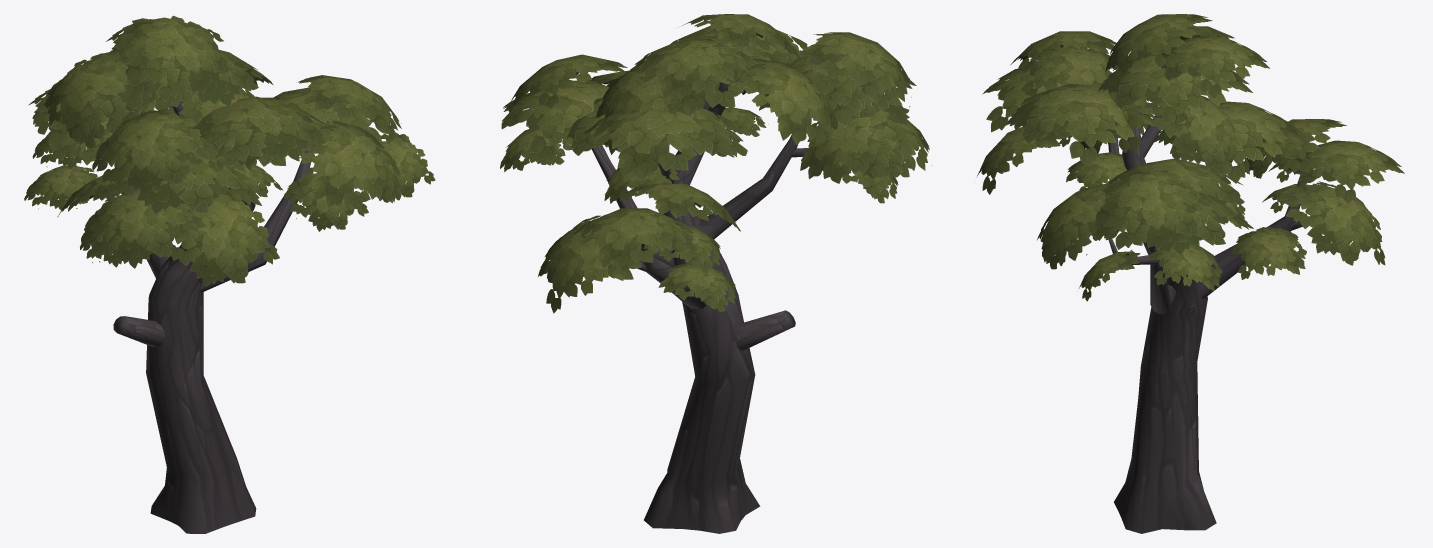
The model's file is tree-oak.glb.
3 renders of one model, left to right at view 1: azimuth 30°, elevation 25°; view 2: azimuth 150°, elevation 25°; view 3: azimuth 270°, elevation 25°, orthographic. The views are drawn at different scales.
Visible parts, largest first — view 1: tree-oak_A; view 2: tree-oak_A; view 3: tree-oak_A.
Part boxes in pixels (left/top/right/bottom): tree-oak_A: left=24, top=15, right=435, bottom=533; tree-oak_A: left=500, top=14, right=931, bottom=533; tree-oak_A: left=976, top=14, right=1404, bottom=533.
Bounding box in the file's own units: 0.8089 × 0.9817 × 0.8236.
Materials: 1 (1 with a texture image).
